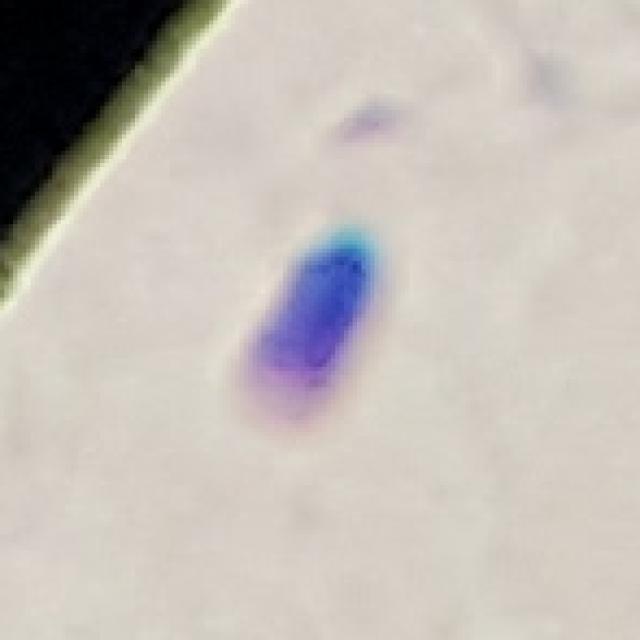non-sperm: (245, 226, 385, 398)
